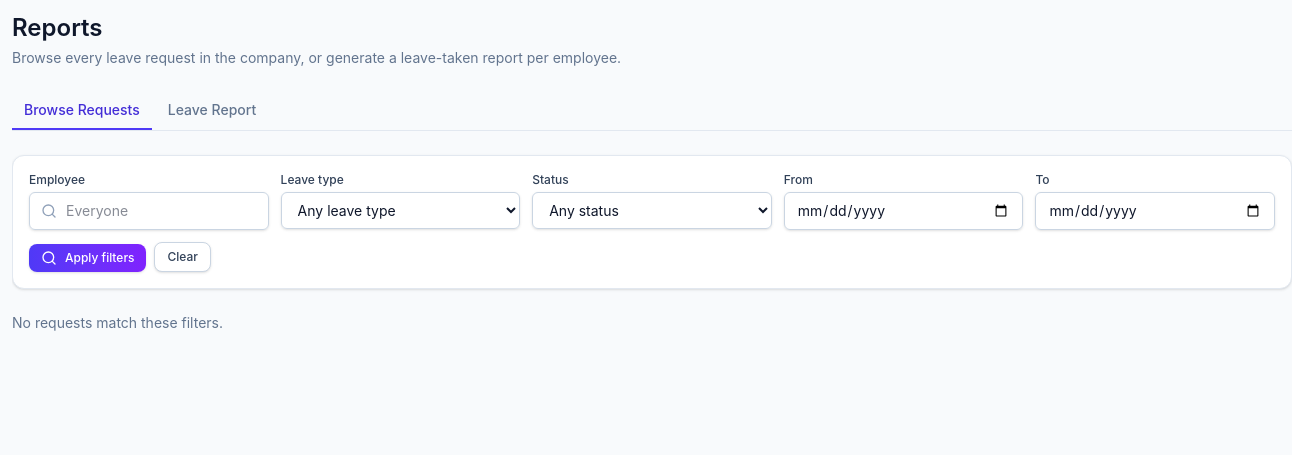
Test case: HrReportsPage › Leave Report tab › shows the per-employee report after generating for a period
The width and height of the screenshot is (1292, 455).
Click the tab "Leave Report": {"x": 212, "y": 111} top-left (156, 92), bottom-right (268, 130)
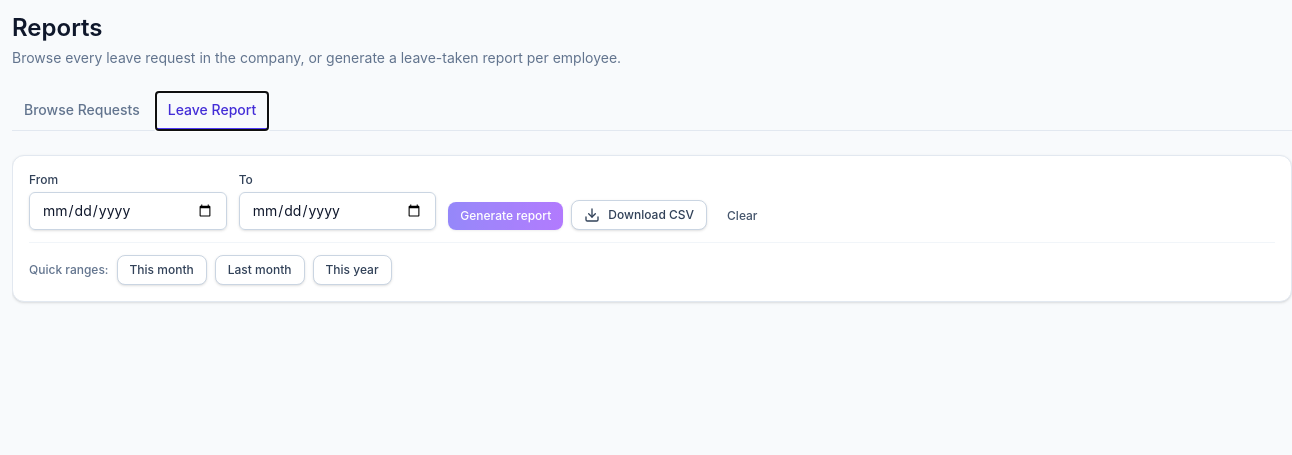
In the date field labelled "From": {"x": 128, "y": 211} top-left (29, 192), bottom-right (227, 230), type "2031-01-01"
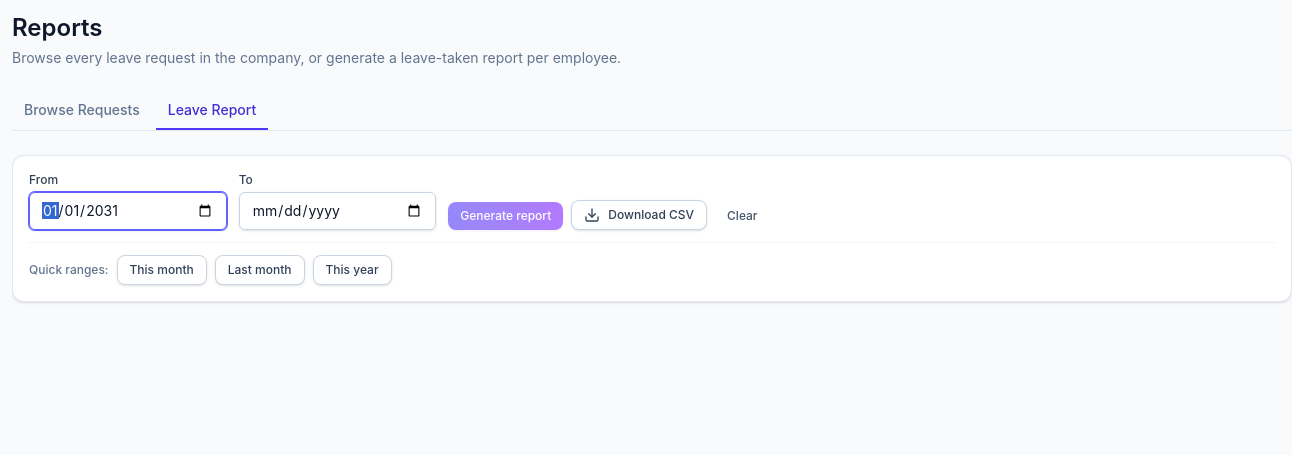
In the date field labelled "To": {"x": 338, "y": 211} top-left (239, 192), bottom-right (436, 230), type "2031-01-31"
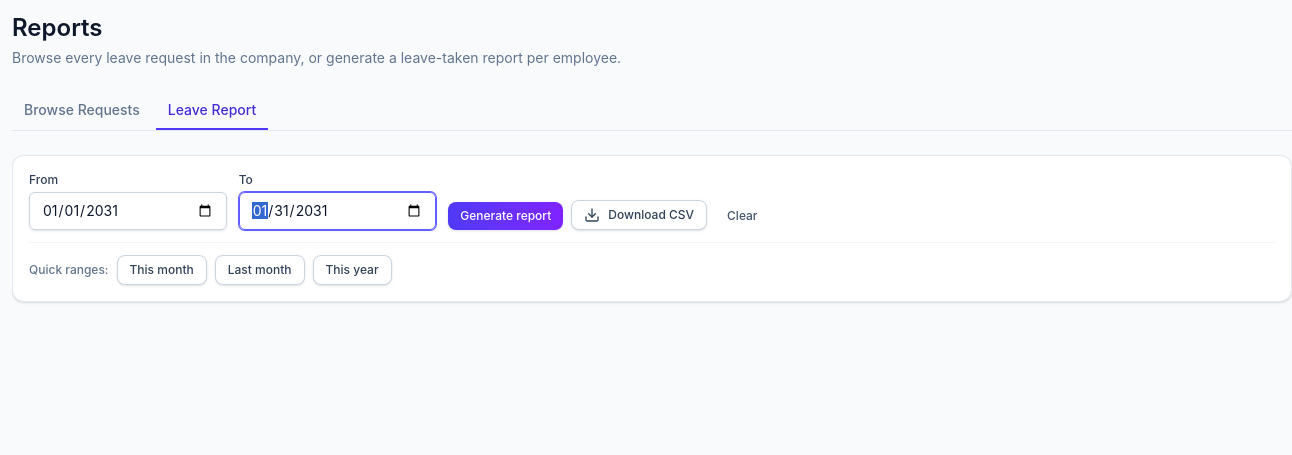
Click the button "Generate report": {"x": 506, "y": 216} top-left (448, 202), bottom-right (563, 230)
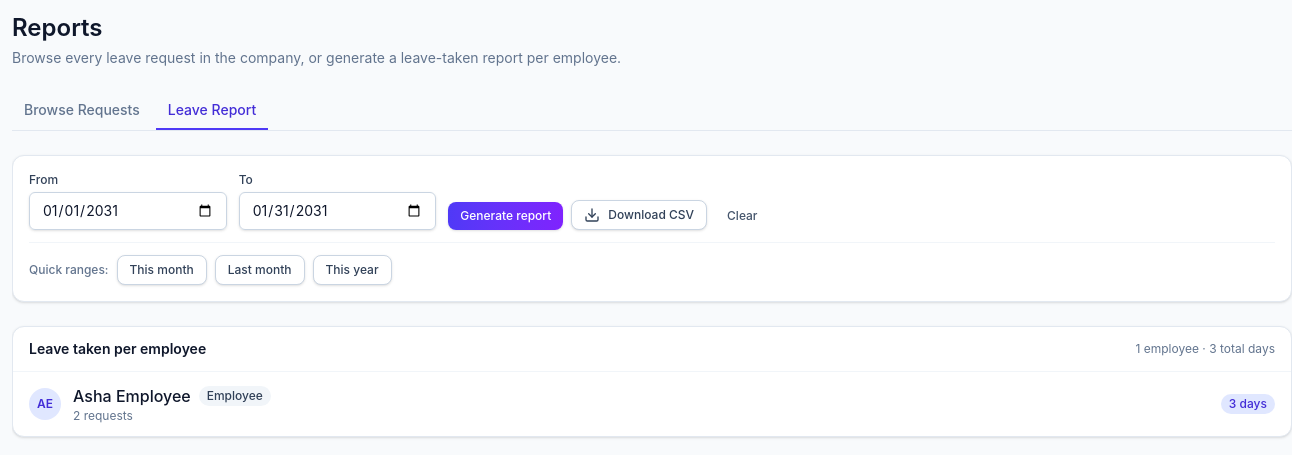
Check: the text "Asha Employee" is shown, box top-left (73, 384), bottom-right (191, 408)
Check: the text "3 days" is shown, box top-left (1221, 394), bottom-right (1275, 414)
Check: the text "2 requests" is shown, box top-left (73, 408), bottom-right (133, 423)
